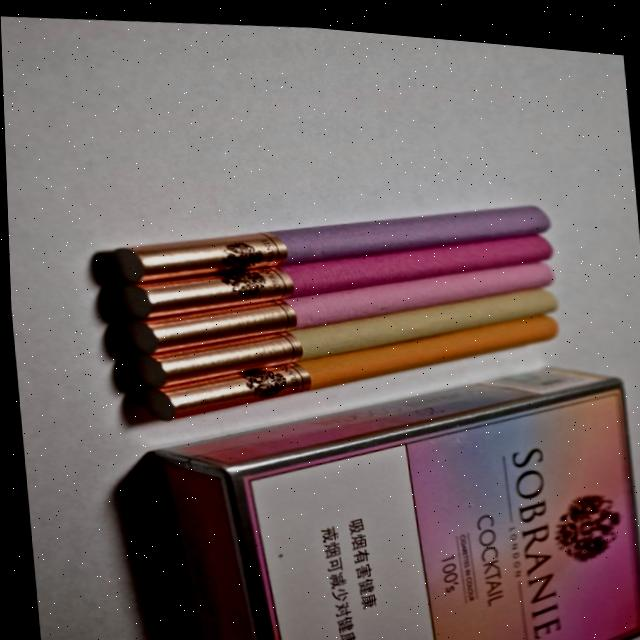cigarette: (140, 314, 558, 421), (133, 289, 558, 388), (123, 263, 553, 356), (116, 236, 551, 319), (107, 206, 550, 284)
